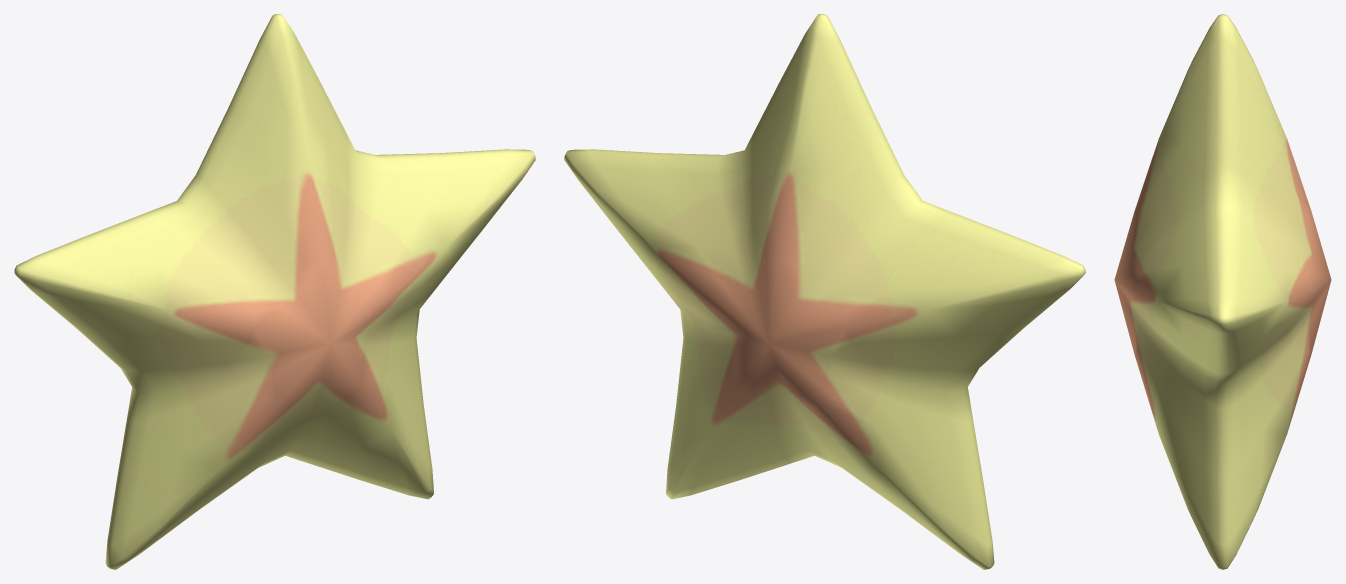
File: star.FBX
The picture shows the model from 3 angles, left to right: view 1: azimuth 30°, elevation 25°; view 2: azimuth 150°, elevation 25°; view 3: azimuth 270°, elevation 25°; orthographic projection. The views are drawn at different scales.
Parts seen in each view (by area): view 1: Star001; view 2: Star001; view 3: Star001.
Part boxes in pixels (x1,y1,x2,y2): Star001: (14,14,535,569); Star001: (564,14,1085,569); Star001: (1114,14,1331,569).
Size of the model in its own units: 38.21 by 36.59 by 14.78.
